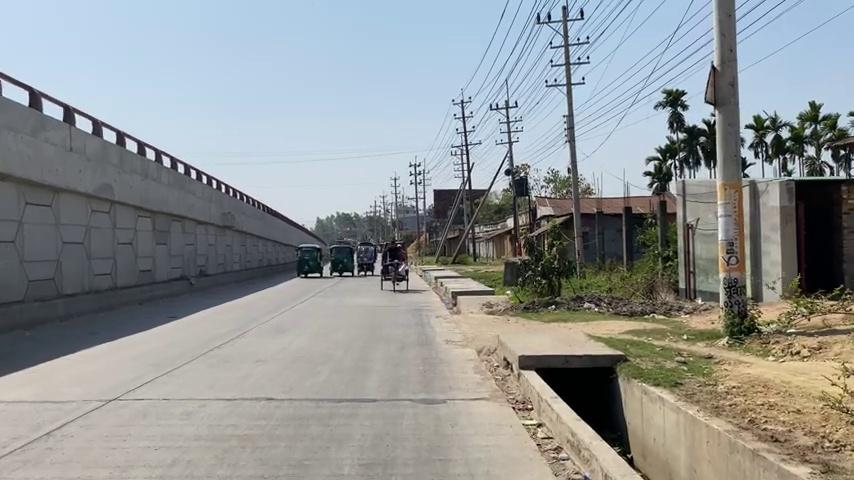Fallen-tree: (0, 73, 299, 330)
Garbage: (535, 1, 590, 278), (711, 0, 747, 332)
Garbage-bin: (517, 350, 640, 468)
Muddy road: (373, 237, 423, 297)
Rickshaw: (294, 243, 323, 277), (328, 243, 354, 276)
